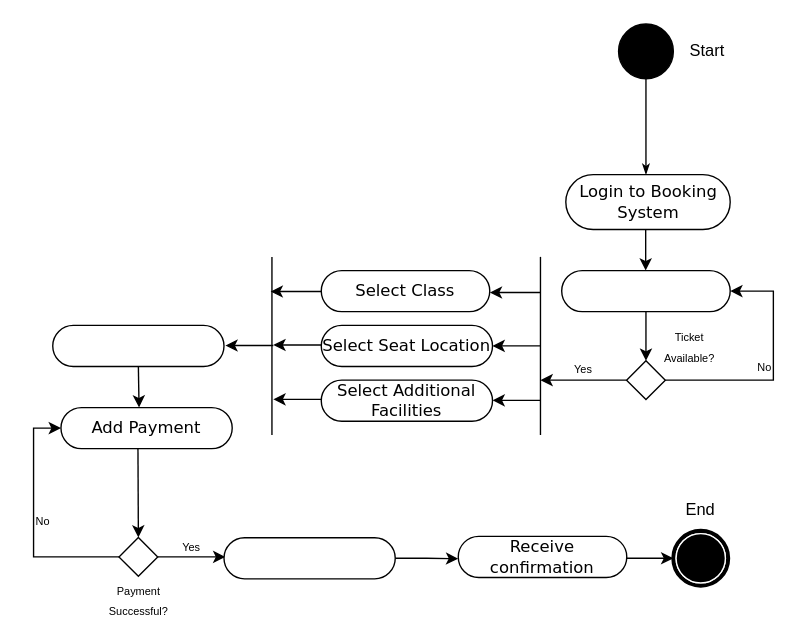
This 808x644 diagram has some shape labels left out. The shapes that lost their labels are listed below. From the top down, each one's centre as x and y in pixels, then its label:
the point at 645,290: Search Destination
the point at 137,345: View Booking
the point at 309,557: Book Ticket
